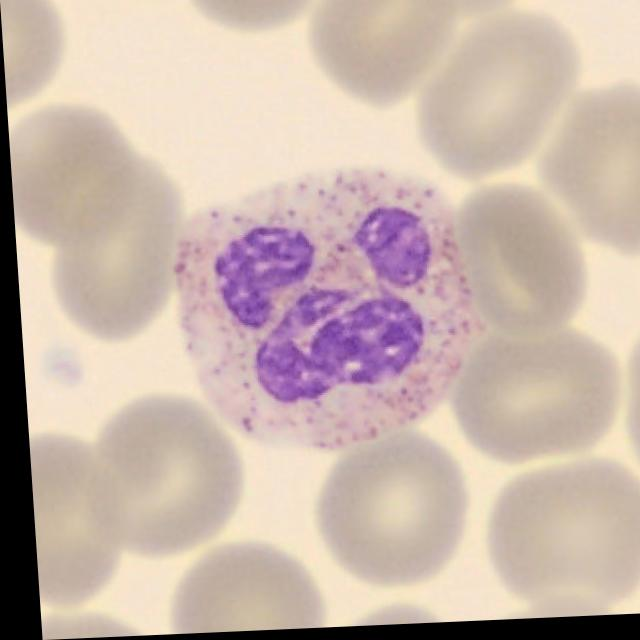Neutrofilo segmentado: (169, 171, 483, 455)
